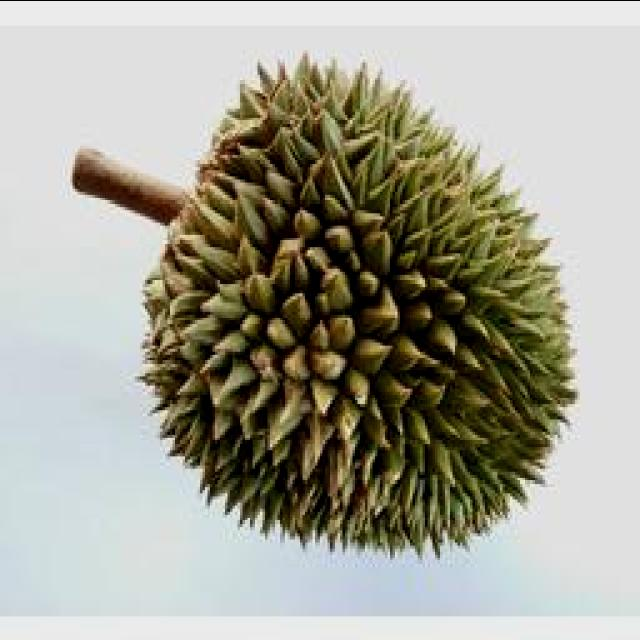non_orange: (98, 28, 600, 582)
